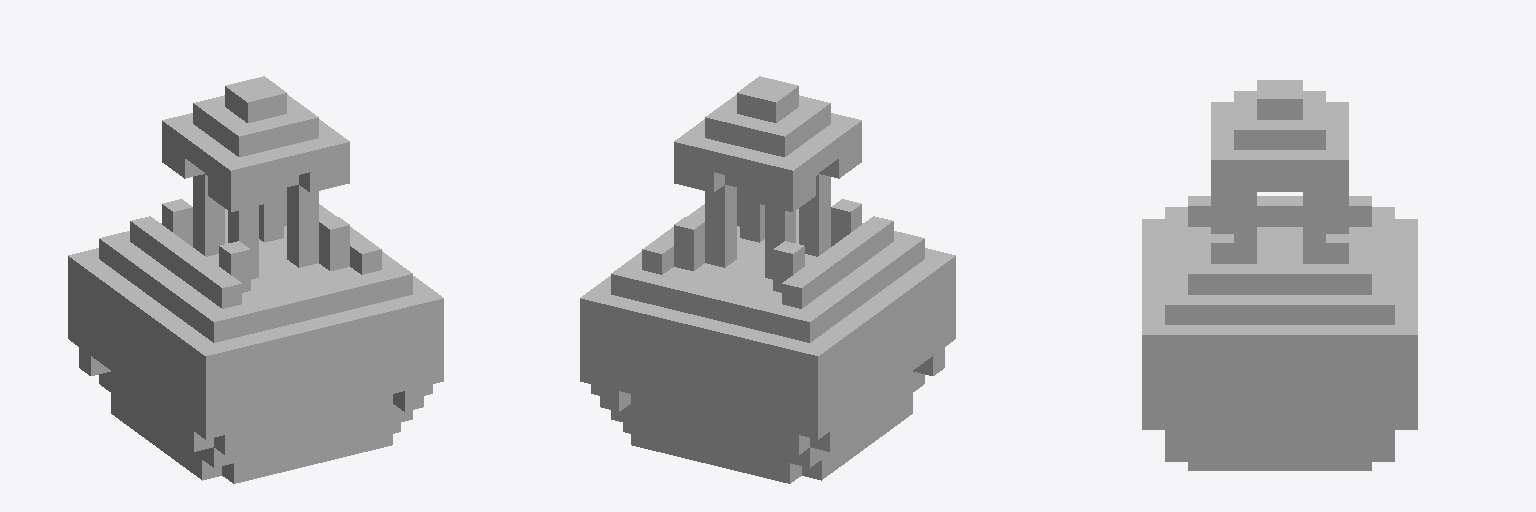
The model's file is potion.vox.obj.
3 views of the same model, side by side, from view 1: azimuth 30°, elevation 25°; view 2: azimuth 150°, elevation 25°; view 3: azimuth 270°, elevation 25° (orthographic).
Parts seen in each view (by area): view 1: object 1; view 2: object 1; view 3: object 1.
Boxes of the visible parts, box(x1,y1,x2,y2) form: object 1: box(68, 76, 443, 483); object 1: box(580, 76, 955, 483); object 1: box(1142, 80, 1417, 470).
Bounding box in the file's own units: 1.2 × 1.6 × 1.2.